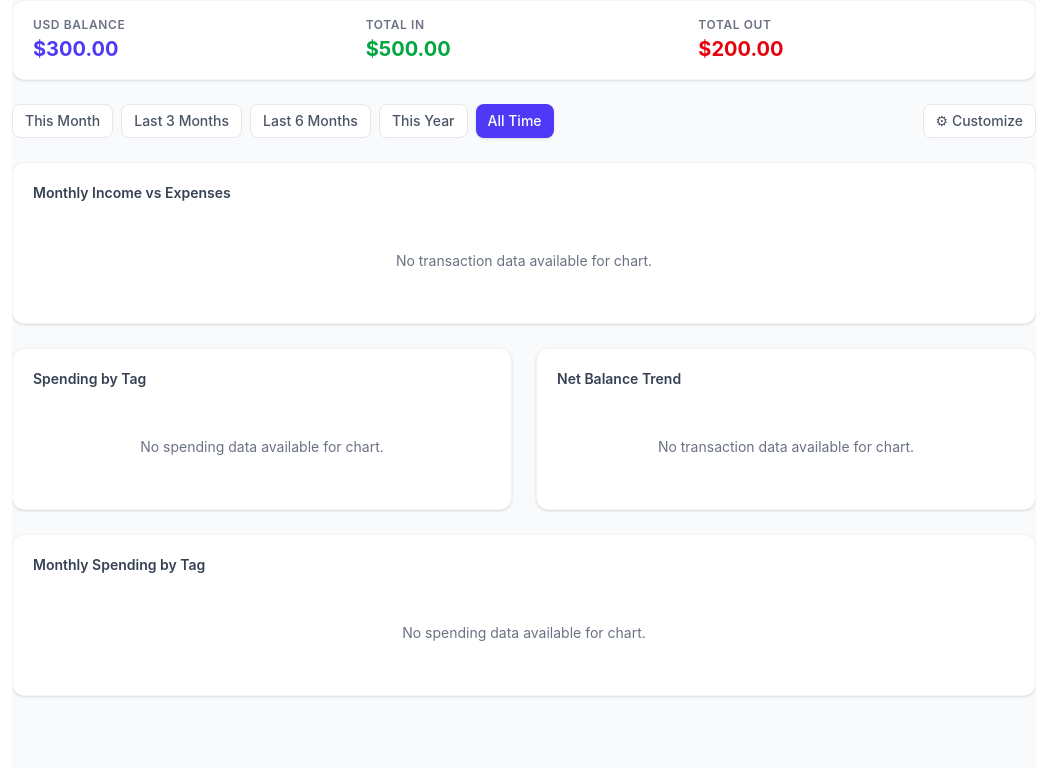
Test: DashboardPage.vue › toggles customize panel and can hide charts
The image size is (1048, 768).
Expected: the text "Toggle Charts" is not shown
// Click customize button
Click the button "⚙ Customize" at (979,121), box [923, 104, 1036, 138]
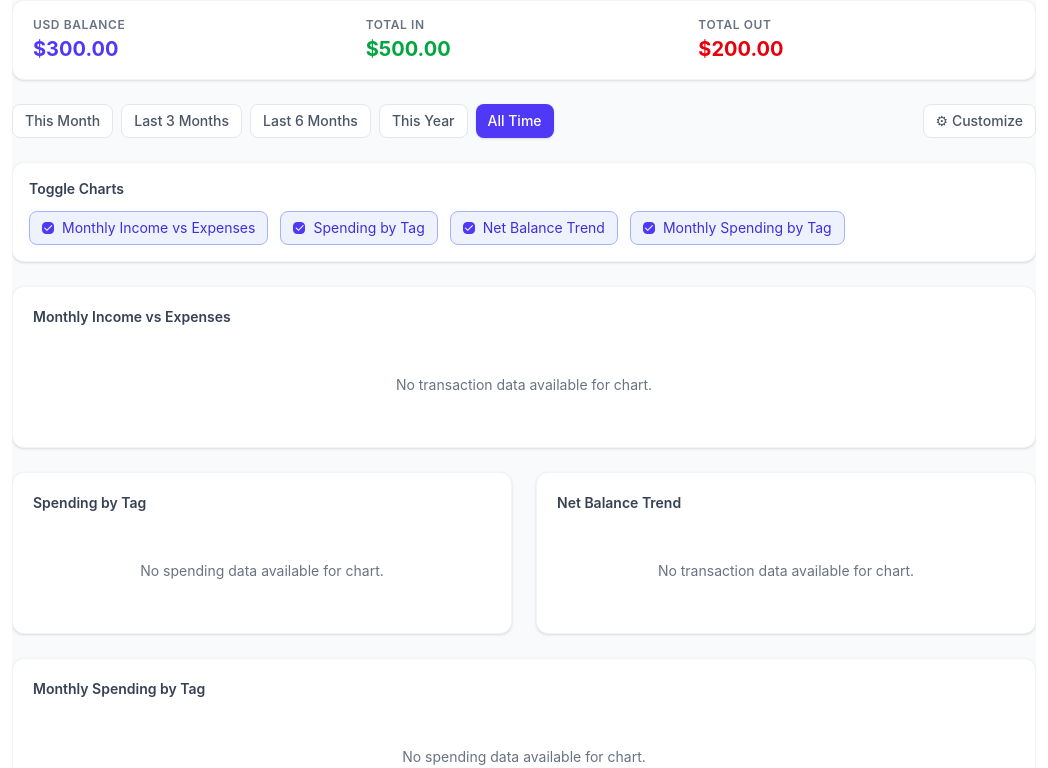
Expected: the text "Monthly Income vs Expenses" is shown, [62, 219, 255, 236]
Expected: the text "Toggle Charts" is shown, [29, 180, 124, 197]
